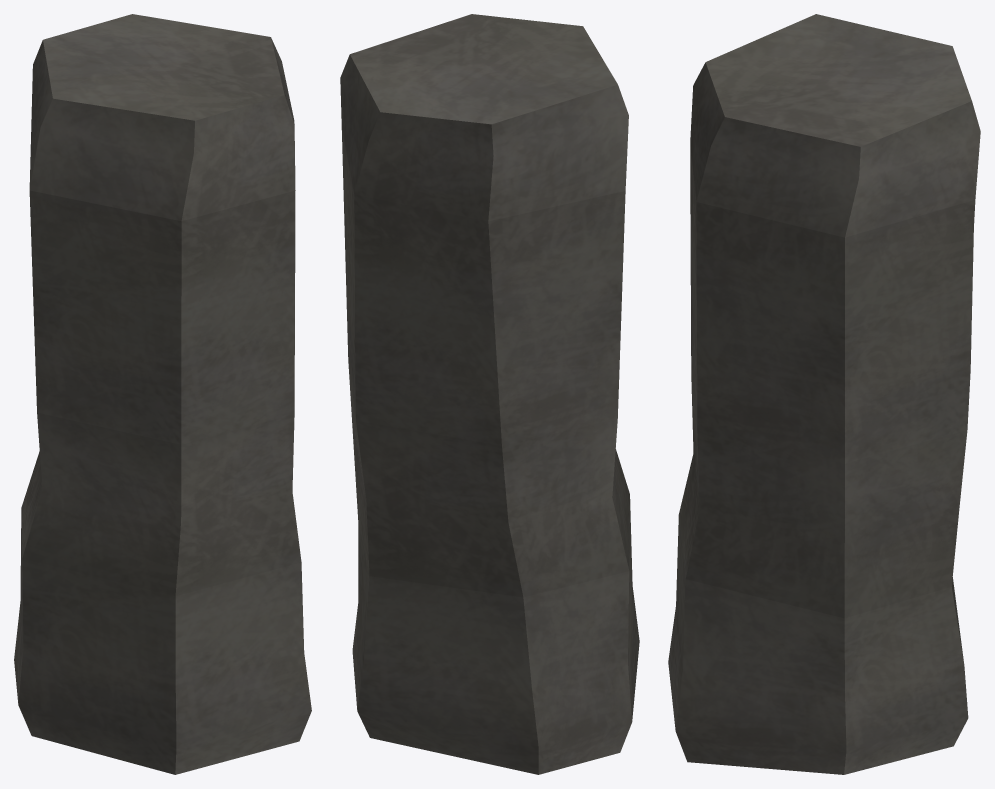
The model's file is ZachMesaRock7.fbx.
The picture shows the model from 3 angles, left to right: view 1: azimuth 30°, elevation 25°; view 2: azimuth 150°, elevation 25°; view 3: azimuth 270°, elevation 25°; orthographic projection. The views are drawn at different scales.
Visible parts, largest first — view 1: ZachMesaRock7; view 2: ZachMesaRock7; view 3: ZachMesaRock7.
Boxes of the visible parts, x1,y1,x2,y2 form: ZachMesaRock7: (14,14,311,774); ZachMesaRock7: (340,14,639,774); ZachMesaRock7: (668,14,980,774).
Size of the model in its own units: 16.36 by 35.89 by 15.48.
